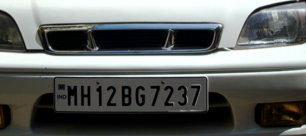MH12BG7237: (54, 77, 208, 112)
